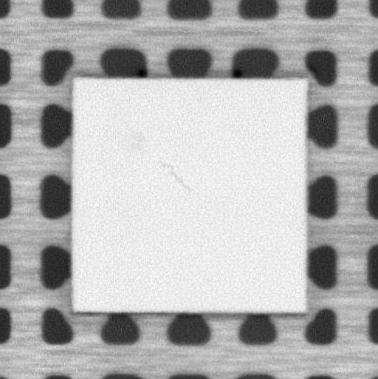DIE_CRACK: (166, 168, 191, 194)
